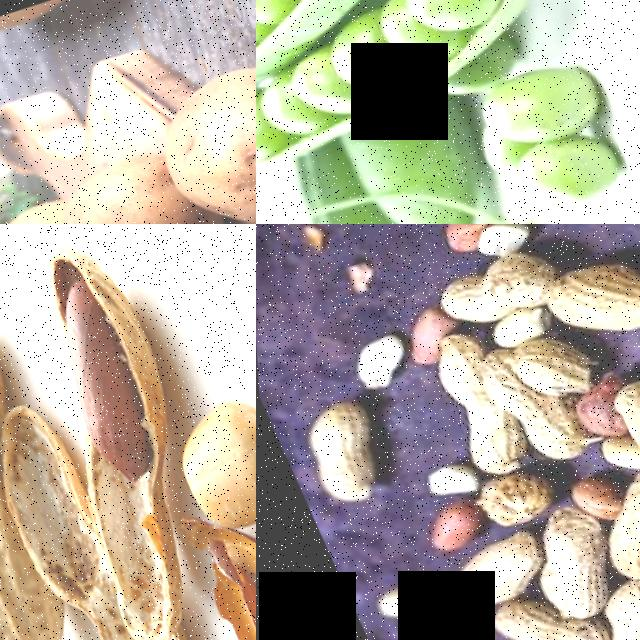peanuts: (20, 264, 173, 490), (158, 374, 256, 535), (423, 337, 528, 481), (281, 386, 398, 515), (422, 230, 561, 335), (0, 453, 78, 640), (541, 225, 640, 350), (519, 489, 618, 601), (426, 518, 540, 613), (494, 316, 598, 407), (463, 454, 554, 533), (409, 487, 485, 554), (476, 291, 556, 353), (584, 557, 640, 640), (601, 351, 640, 470), (604, 456, 640, 548)
peas: (256, 0, 640, 203), (429, 27, 640, 224)
potato: (127, 22, 256, 221), (26, 128, 211, 224)
